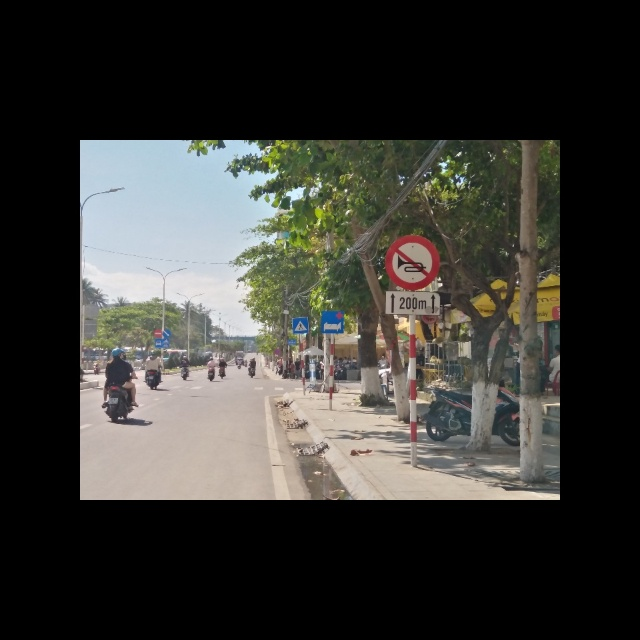Bệnh viện: (321, 310, 343, 334)
Cấm bấm còi: (385, 236, 439, 291)
Đường dành cho người đi bộ: (293, 317, 308, 334)
